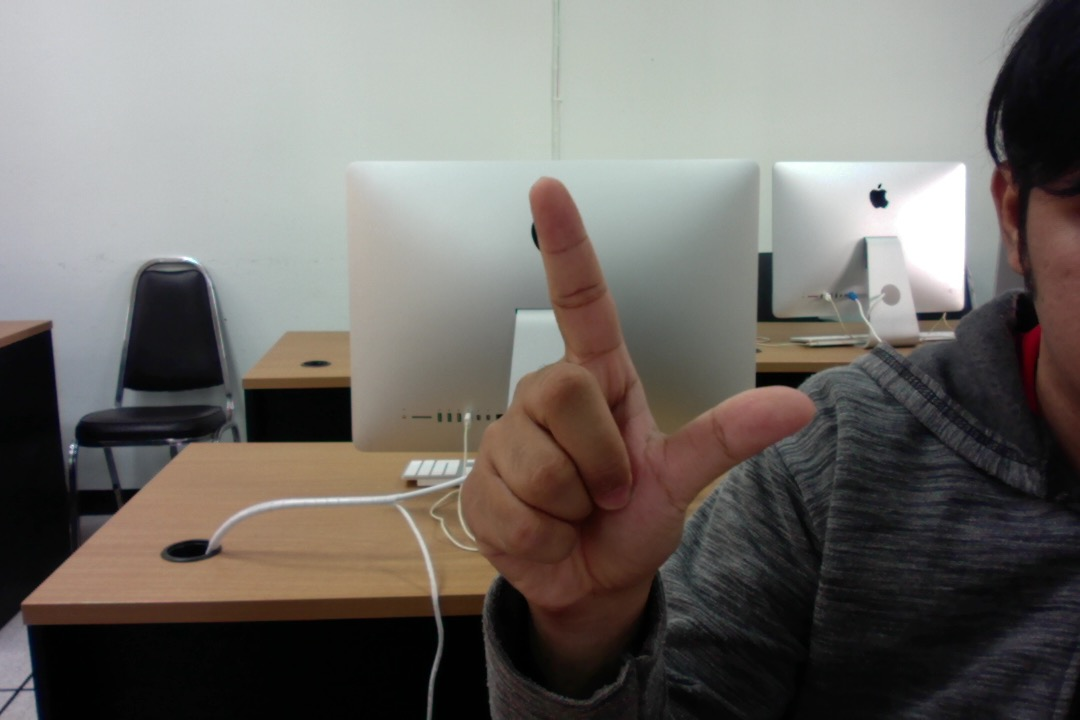lor: (451, 171, 838, 629)
